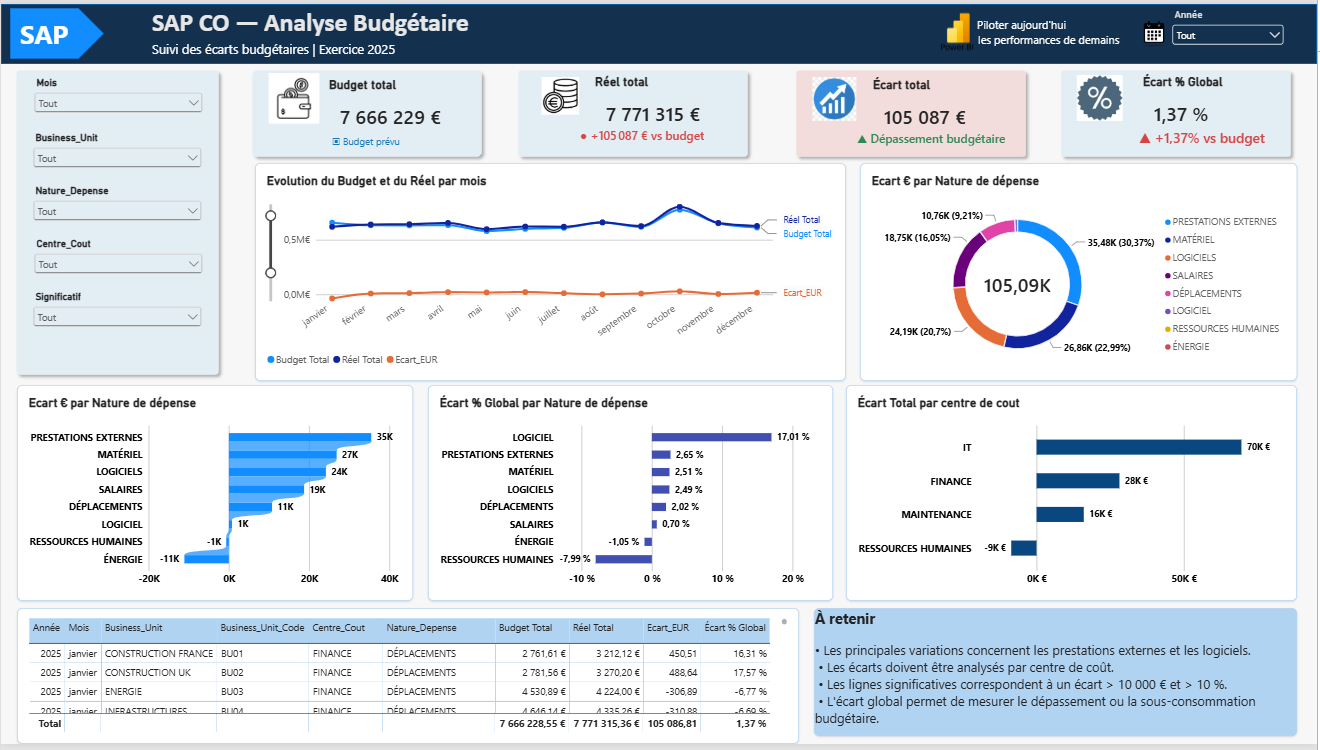

What the dashboard file says about the page in this screenshot:
{"tool":"powerbi","page":{"name":"Dashboard","canvas":[1920,1080],"ordinal":0},"visuals":[{"type":"shape","box":[0,0,1920,87.5],"z":0},{"type":"textbox","box":[220.3,2.9,490.2,55.4],"z":1000},{"type":"textbox","box":[220.3,52.5,356,24.8],"z":2000},{"type":"shape","box":[357.4,87.5,353.1,144.4],"z":3000},{"type":"cardVisual","title":"Budget total","fields":{"Data":["Données.Budget Total"]},"box":[478.5,106.5,195.5,75.9],"z":4000},{"type":"shape","box":[745.5,87.5,353.1,144.4],"z":5000},{"type":"cardVisual","title":"Réel total","fields":{"Data":["Données.Réel Total"]},"box":[866.6,102.1,207.2,75.9],"z":6000},{"type":"shape","box":[1151.1,87.5,353.1,144.4],"z":7000},{"type":"cardVisual","title":"Écart total","fields":{"Data":["Données.Écart Total"]},"box":[1272.2,106.5,183.8,75.9],"z":8000},{"type":"shape","box":[1537.8,87.5,353.1,144.4],"z":9000},{"type":"cardVisual","title":"Écart % Global","fields":{"Data":["Données.Écart % Global"]},"box":[1666.1,102.1,192.6,75.9],"z":10000},{"type":"shape","box":[13.1,87.5,313.7,462.5],"z":11000},{"type":"slicer","title":"Mois","fields":{"Values":["Données.Mois_date.Variation.Hiérarchie de dates.Mois"]},"box":[43.8,106.5,255.3,65.7],"z":12000},{"type":"slicer","title":"Mois","fields":{"Values":["Données.Business_Unit"]},"box":[42.3,186.7,255.3,65.7],"z":13000},{"type":"slicer","title":"Mois","fields":{"Values":["Données.Nature_Depense"]},"box":[42.3,264.1,255.3,65.7],"z":14000},{"type":"slicer","title":"Mois","fields":{"Values":["Données.Centre_Cout"]},"box":[43.8,341.4,255.3,65.7],"z":15000},{"type":"slicer","title":"Mois","fields":{"Values":["Données.Significatif"]},"box":[42.3,418.7,255.3,65.7],"z":16000},{"type":"lineChart","title":"Evolution du Budget et du Réel par mois","fields":{"Category":["Données.Mois_date.Variation.Hiérarchie de dates.Mois"],"Y":["Données.Budget Total","Données.Réel Total","Données.Ecart_EUR"]},"box":[370.6,232,862.2,318.1],"z":17000},{"type":"donutChart","title":"Ecart € par Nature de dépense","fields":{"Y":["Données.Ecart_EUR"],"Category":["Données.Nature_Depense"]},"box":[1253.3,232,637.6,318.1],"z":18000},{"type":"barChart","title":"Ecart € par Nature de dépense","fields":{"Y":["Données.Ecart_EUR"],"Category":["Données.Nature_Depense"]},"box":[23.3,555.9,577.8,315.1],"z":19000},{"type":"barChart","title":"Écart % Global par Nature de dépense","fields":{"Y":["Données.Écart % Global"],"Category":["Données.Nature_Depense"]},"box":[623,555.9,590.9,315.1],"z":20000},{"type":"barChart","title":"Écart Total par centre de cout","fields":{"Category":["Données.Centre_Cout"],"Y":["Données.Écart Total"]},"box":[1232.8,555.9,658,315.1],"z":21000},{"type":"tableEx","fields":{"Values":["Données.Mois_date.Variation.Hiérarchie de dates.Année","Données.Mois_date.Variation.Hiérarchie de dates.Mois","Données.Business_Unit","Données.Business_Unit_Code","Données.Centre_Cout","Données.Nature_Depense","Données.Budget Total","Données.Réel Total","Données.Ecart_EUR","Données.Écart % Global"]},"box":[23.3,881.2,1140.9,198.4],"z":22000},{"type":"textbox","box":[1186.1,881.2,704.7,186.7],"z":23000},{"type":"shape","box":[13.1,5.8,137.1,74.4],"z":24000},{"type":"textbox","box":[27.7,19,89,49.6],"z":25000},{"type":"textbox","box":[1424,19,153.2,33.6],"z":26000},{"type":"textbox","box":[1425.4,40.9,214.5,32.1],"z":27000},{"type":"image","box":[1642.8,10.2,78.8,65.7],"z":28000},{"type":"image","box":[1346.6,11.7,99.2,56.9],"z":29000},{"type":"slicer","fields":{"Values":["Données.Mois_date.Variation.Hiérarchie de dates.Année"]},"box":[1704.1,7.3,172.2,58.4],"z":29001},{"type":"image","box":[1178.8,106.5,74.4,64.2],"z":29002},{"type":"image","box":[389.5,100.7,75.9,74.4],"z":29003},{"type":"image","box":[777.6,106.5,77.3,55.4],"z":29004},{"type":"image","box":[1562.6,103.6,81.7,67.1],"z":29005},{"type":"textbox","box":[482.9,191.1,210.1,24.8],"z":29006},{"type":"cardVisual","fields":{"Data":["Données.Indicateur Réel"]},"box":[828.7,164.9,218.8,52.5],"z":29007},{"type":"cardVisual","fields":{"Data":["Données.Statut Écart"]},"box":[1232.8,170.7,258.2,48.1],"z":29008},{"type":"cardVisual","fields":{"Data":["Données.Indicateur Écart %"]},"box":[1644.3,167.8,226.1,54],"z":29009}]}

Visuals, with their boxes in screenshot pixels (x1, y1, x2, y2), scaled from the page's 1920x1080 canvas onto the 1320x750 screenshot:
shape: (x1=0, y1=0, x2=1319, y2=61)
textbox: (x1=151, y1=2, x2=488, y2=40)
textbox: (x1=151, y1=36, x2=396, y2=54)
shape: (x1=246, y1=61, x2=488, y2=161)
"Budget total" cardVisual: (x1=329, y1=74, x2=463, y2=127)
shape: (x1=513, y1=61, x2=755, y2=161)
"Réel total" cardVisual: (x1=596, y1=71, x2=738, y2=124)
shape: (x1=791, y1=61, x2=1034, y2=161)
"Écart total" cardVisual: (x1=875, y1=74, x2=1001, y2=127)
shape: (x1=1057, y1=61, x2=1300, y2=161)
"Écart % Global" cardVisual: (x1=1145, y1=71, x2=1278, y2=124)
shape: (x1=9, y1=61, x2=225, y2=382)
"Mois" slicer: (x1=30, y1=74, x2=206, y2=120)
"Mois" slicer: (x1=29, y1=130, x2=205, y2=175)
"Mois" slicer: (x1=29, y1=183, x2=205, y2=229)
"Mois" slicer: (x1=30, y1=237, x2=206, y2=283)
"Mois" slicer: (x1=29, y1=291, x2=205, y2=336)
"Evolution du Budget et du Réel par mois" lineChart: (x1=255, y1=161, x2=848, y2=382)
"Ecart € par Nature de dépense" donutChart: (x1=862, y1=161, x2=1300, y2=382)
"Ecart € par Nature de dépense" barChart: (x1=16, y1=386, x2=413, y2=605)
"Écart % Global par Nature de dépense" barChart: (x1=428, y1=386, x2=835, y2=605)
"Écart Total par centre de cout" barChart: (x1=848, y1=386, x2=1300, y2=605)
tableEx - Données.Mois_date.Variation.Hiérarchie de dates.Année x Données.Mois_date.Variation.Hiérarchie de dates.Mois: (x1=16, y1=612, x2=800, y2=749)
textbox: (x1=815, y1=612, x2=1300, y2=742)
shape: (x1=9, y1=4, x2=103, y2=56)
textbox: (x1=19, y1=13, x2=80, y2=48)
textbox: (x1=979, y1=13, x2=1084, y2=37)
textbox: (x1=980, y1=28, x2=1127, y2=51)
image: (x1=1129, y1=7, x2=1184, y2=53)
image: (x1=926, y1=8, x2=994, y2=48)
slicer - Données.Mois_date.Variation.Hiérarchie de dates.Année: (x1=1172, y1=5, x2=1290, y2=46)
image: (x1=810, y1=74, x2=862, y2=119)
image: (x1=268, y1=70, x2=320, y2=122)
image: (x1=535, y1=74, x2=588, y2=112)
image: (x1=1074, y1=72, x2=1130, y2=119)
textbox: (x1=332, y1=133, x2=476, y2=150)
cardVisual - Données.Indicateur Réel: (x1=570, y1=115, x2=720, y2=151)
cardVisual - Données.Statut Écart: (x1=848, y1=119, x2=1025, y2=152)
cardVisual - Données.Indicateur Écart %: (x1=1130, y1=117, x2=1286, y2=154)
